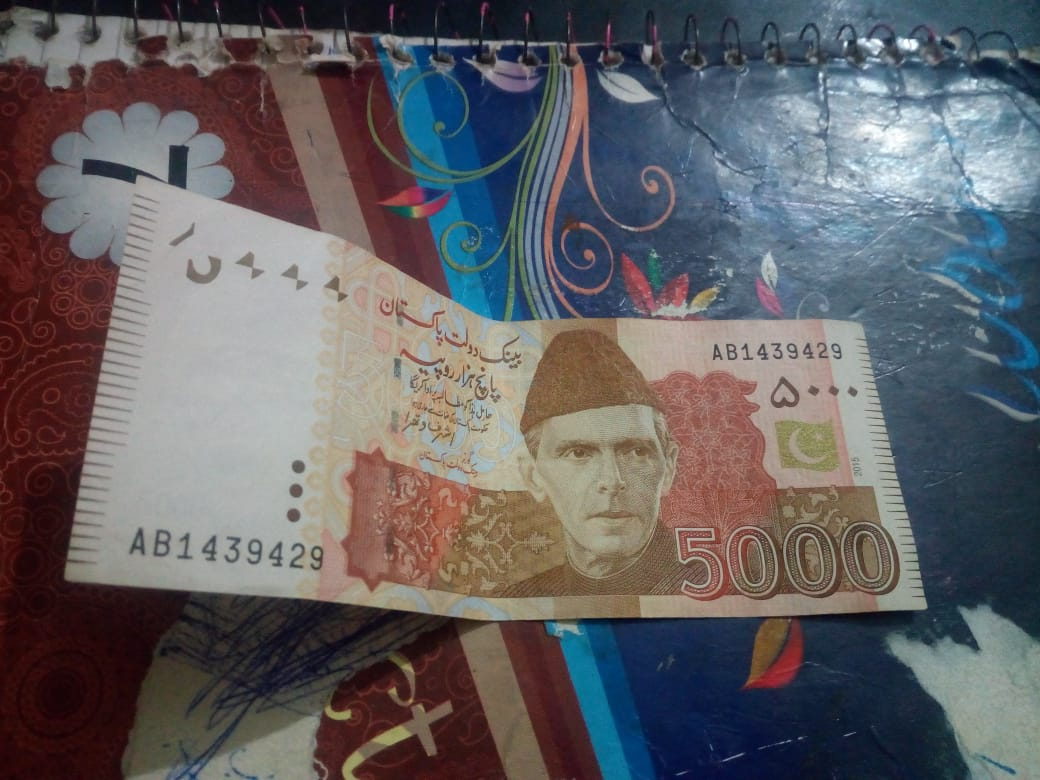5000 rupee: (65, 169, 947, 631)
